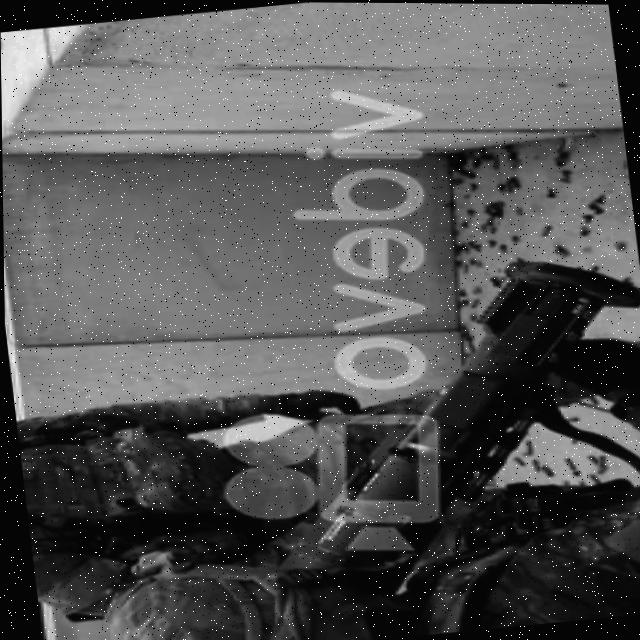rocket: (254, 223, 640, 596)
